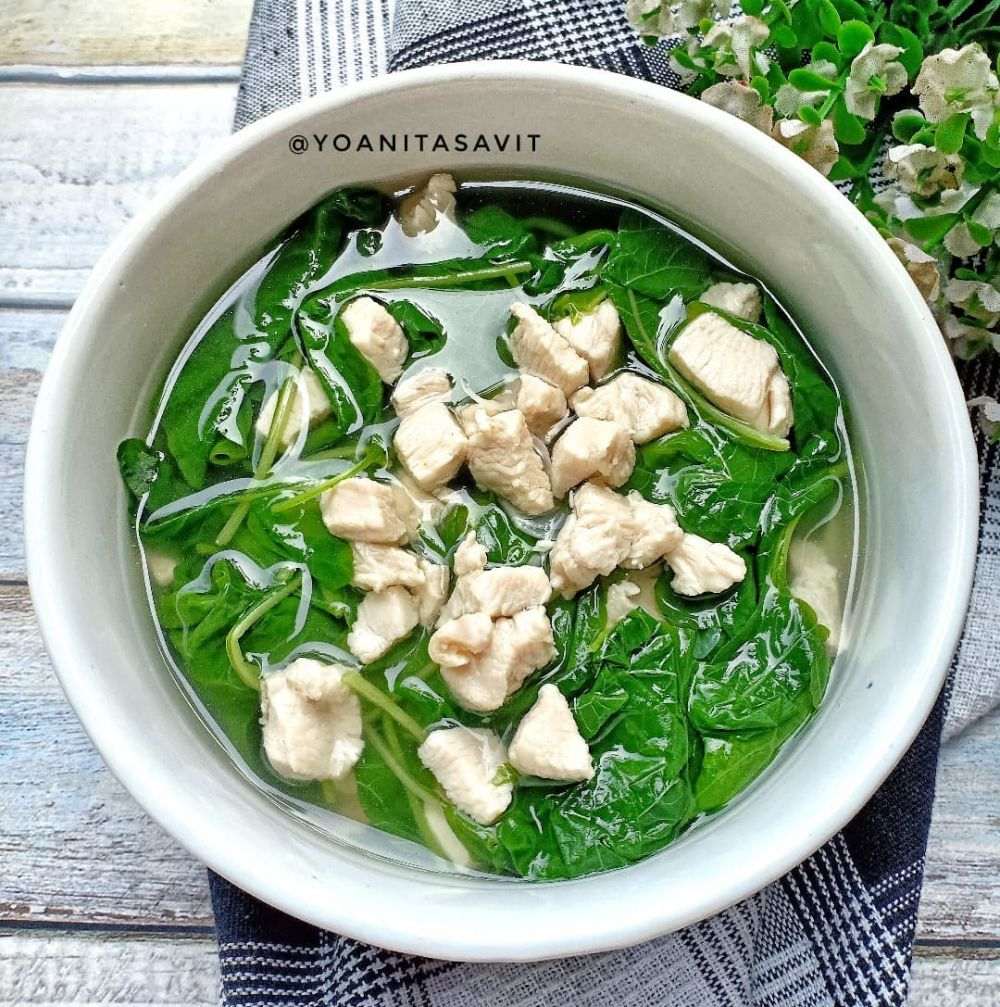Sayur Bayam: (139, 186, 816, 859)
